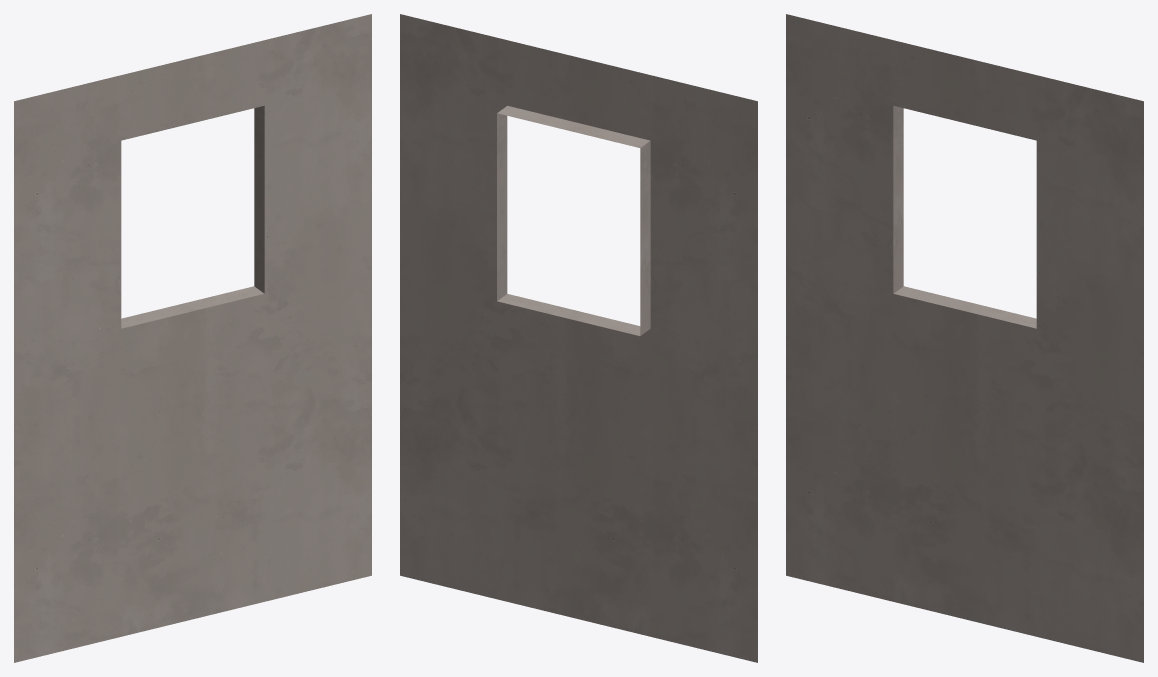
The model's file is SM_ENV_K1_WALL_WINDOW_STRAIGHT_2X3_02.fbx.
3 renders of one model, left to right at view 1: azimuth 30°, elevation 25°; view 2: azimuth 150°, elevation 25°; view 3: azimuth 330°, elevation 25°, orthographic.
Visible parts, largest first — view 1: SM_ENV_K1_WALL_WINDOW_STRAIGHT_2X3_02; view 2: SM_ENV_K1_WALL_WINDOW_STRAIGHT_2X3_02; view 3: SM_ENV_K1_WALL_WINDOW_STRAIGHT_2X3_02.
Part boxes in pixels (box(x1,y1,x2,y2)): SM_ENV_K1_WALL_WINDOW_STRAIGHT_2X3_02: box(14, 14, 371, 662); SM_ENV_K1_WALL_WINDOW_STRAIGHT_2X3_02: box(400, 14, 757, 662); SM_ENV_K1_WALL_WINDOW_STRAIGHT_2X3_02: box(786, 14, 1143, 662).
Bounding box in the file's own units: 2 × 3 × 0.1.
